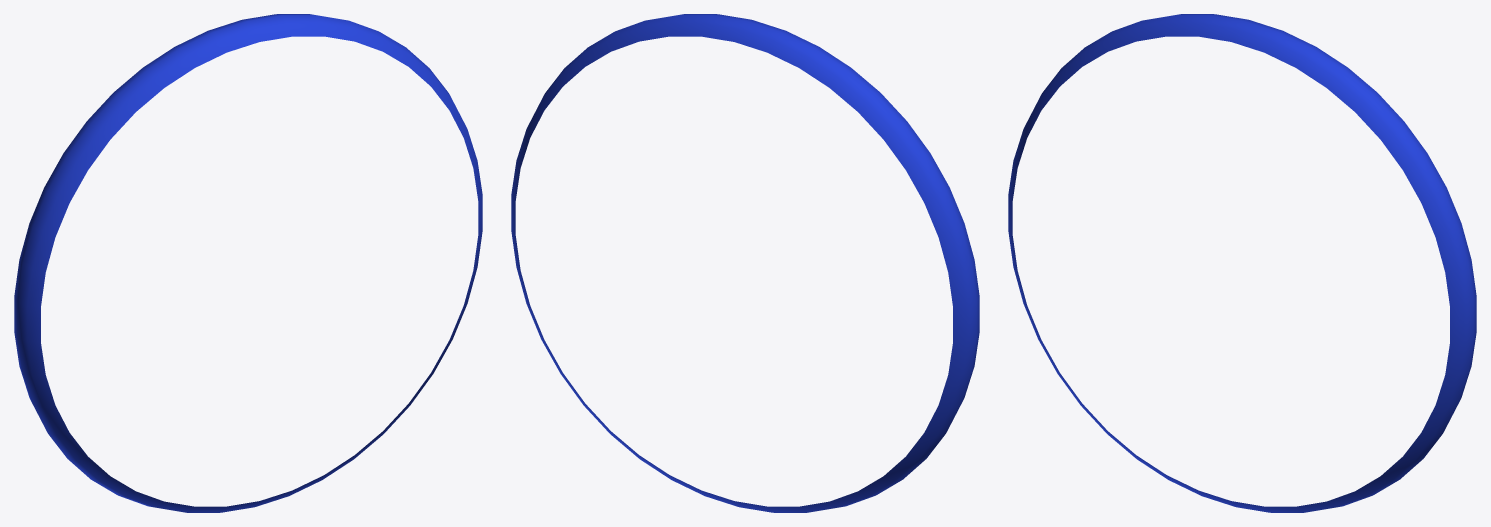
Rendered from rotation-gizmo-flat-z.glb.
3 renders of one model, left to right at view 1: azimuth 30°, elevation 25°; view 2: azimuth 150°, elevation 25°; view 3: azimuth 330°, elevation 25°, orthographic.
Visible parts, largest first — view 1: rotation-gizmo-flat-z; view 2: rotation-gizmo-flat-z; view 3: rotation-gizmo-flat-z.
Boxes of the visible parts, left/top/right/bottom form: rotation-gizmo-flat-z: left=14, top=14, right=482, bottom=512; rotation-gizmo-flat-z: left=511, top=14, right=979, bottom=512; rotation-gizmo-flat-z: left=1008, top=14, right=1476, bottom=512.
Bounding box in the file's own units: 6.58 × 6.6 × 0.5458.
